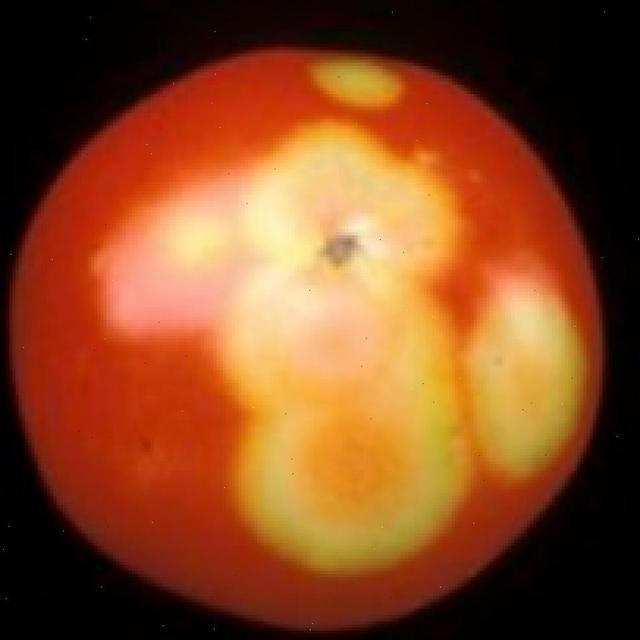Spotted wilt Virus Fruit: (0, 150, 67, 520)
